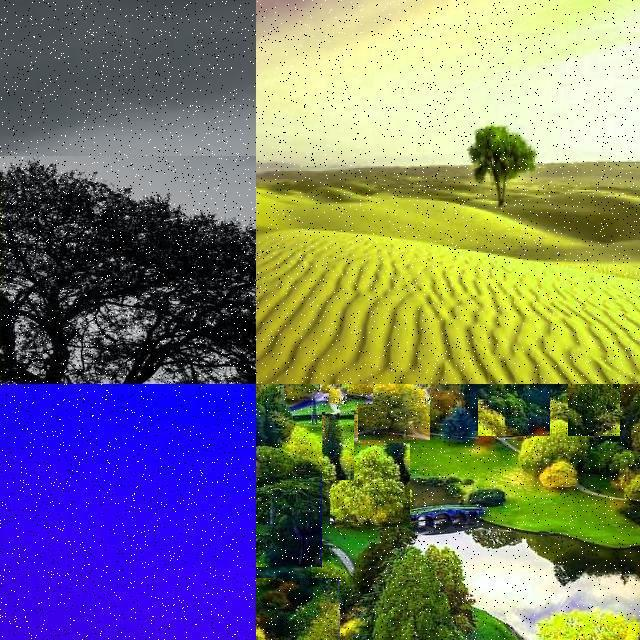tree: (0, 156, 256, 384), (343, 547, 467, 640), (330, 443, 410, 527), (466, 128, 542, 208), (256, 477, 322, 567), (256, 534, 314, 632), (256, 578, 340, 640), (256, 406, 298, 516), (256, 427, 298, 537), (523, 420, 585, 490), (358, 384, 430, 440), (478, 384, 550, 436), (256, 429, 286, 537), (256, 545, 304, 609), (256, 498, 300, 564), (568, 384, 620, 436), (468, 384, 536, 418), (322, 412, 354, 480), (434, 397, 478, 443), (256, 384, 288, 444), (256, 384, 298, 428), (268, 384, 320, 404), (329, 384, 373, 404), (256, 384, 284, 404), (348, 384, 382, 400)
